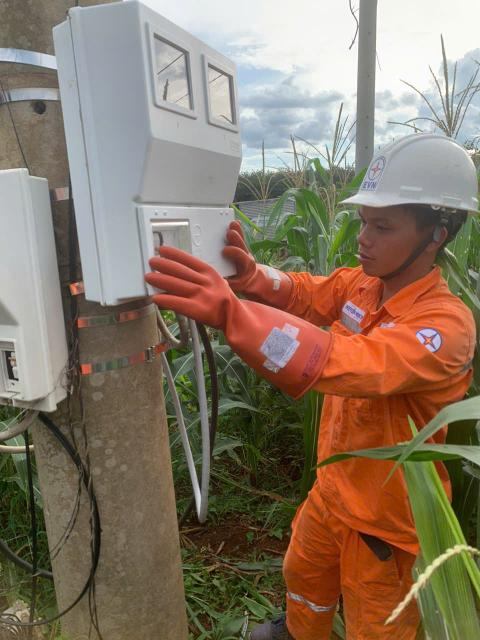gloves: (137, 234, 351, 392), (212, 212, 301, 310)
helmet: (328, 121, 480, 231)
